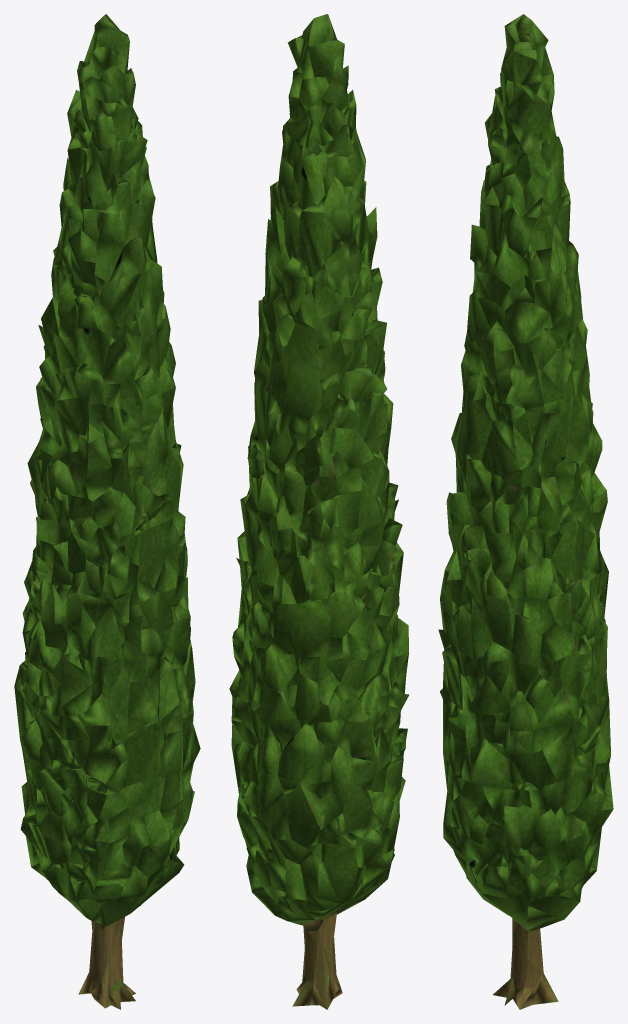
File: getkong-baum5.glb
3 views of the same model, side by side, from view 1: azimuth 30°, elevation 25°; view 2: azimuth 150°, elevation 25°; view 3: azimuth 270°, elevation 25° (orthographic).
Visible parts, largest first — view 1: output_unwrapped; view 2: output_unwrapped; view 3: output_unwrapped.
Part boxes in pixels (<box>): output_unwrapped: <box>14,14,200,1009</box>; output_unwrapped: <box>229,14,408,1009</box>; output_unwrapped: <box>438,14,613,1009</box>.
Bounding box in the file's own units: 0.3097 × 1.89 × 0.3064.
1 material, 1 textured.
